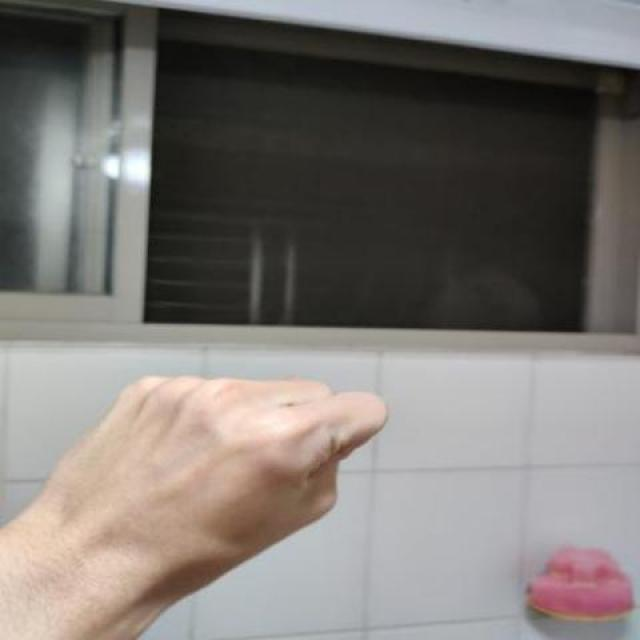fist: (0, 368, 396, 640)
